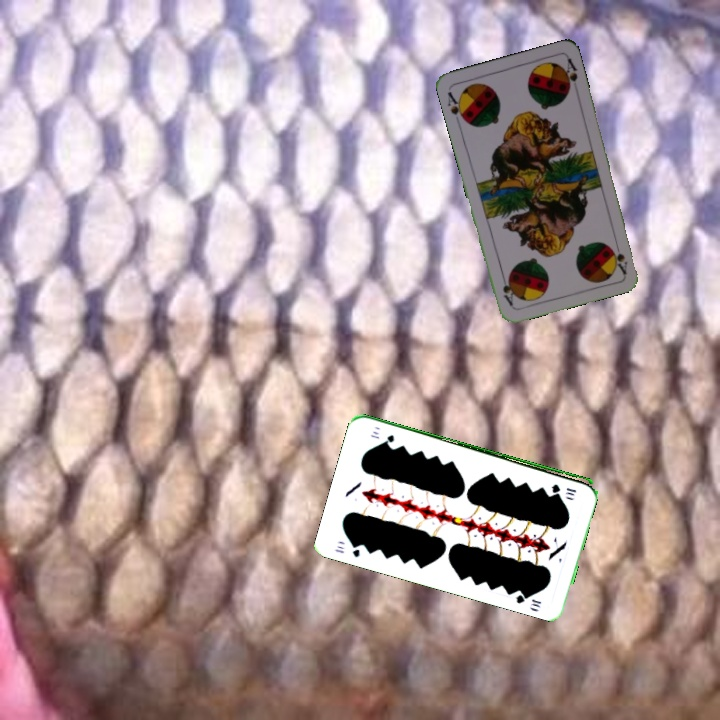G10: (331, 539, 362, 560), (547, 480, 579, 495)
SA: (443, 88, 469, 124), (609, 236, 630, 276)
